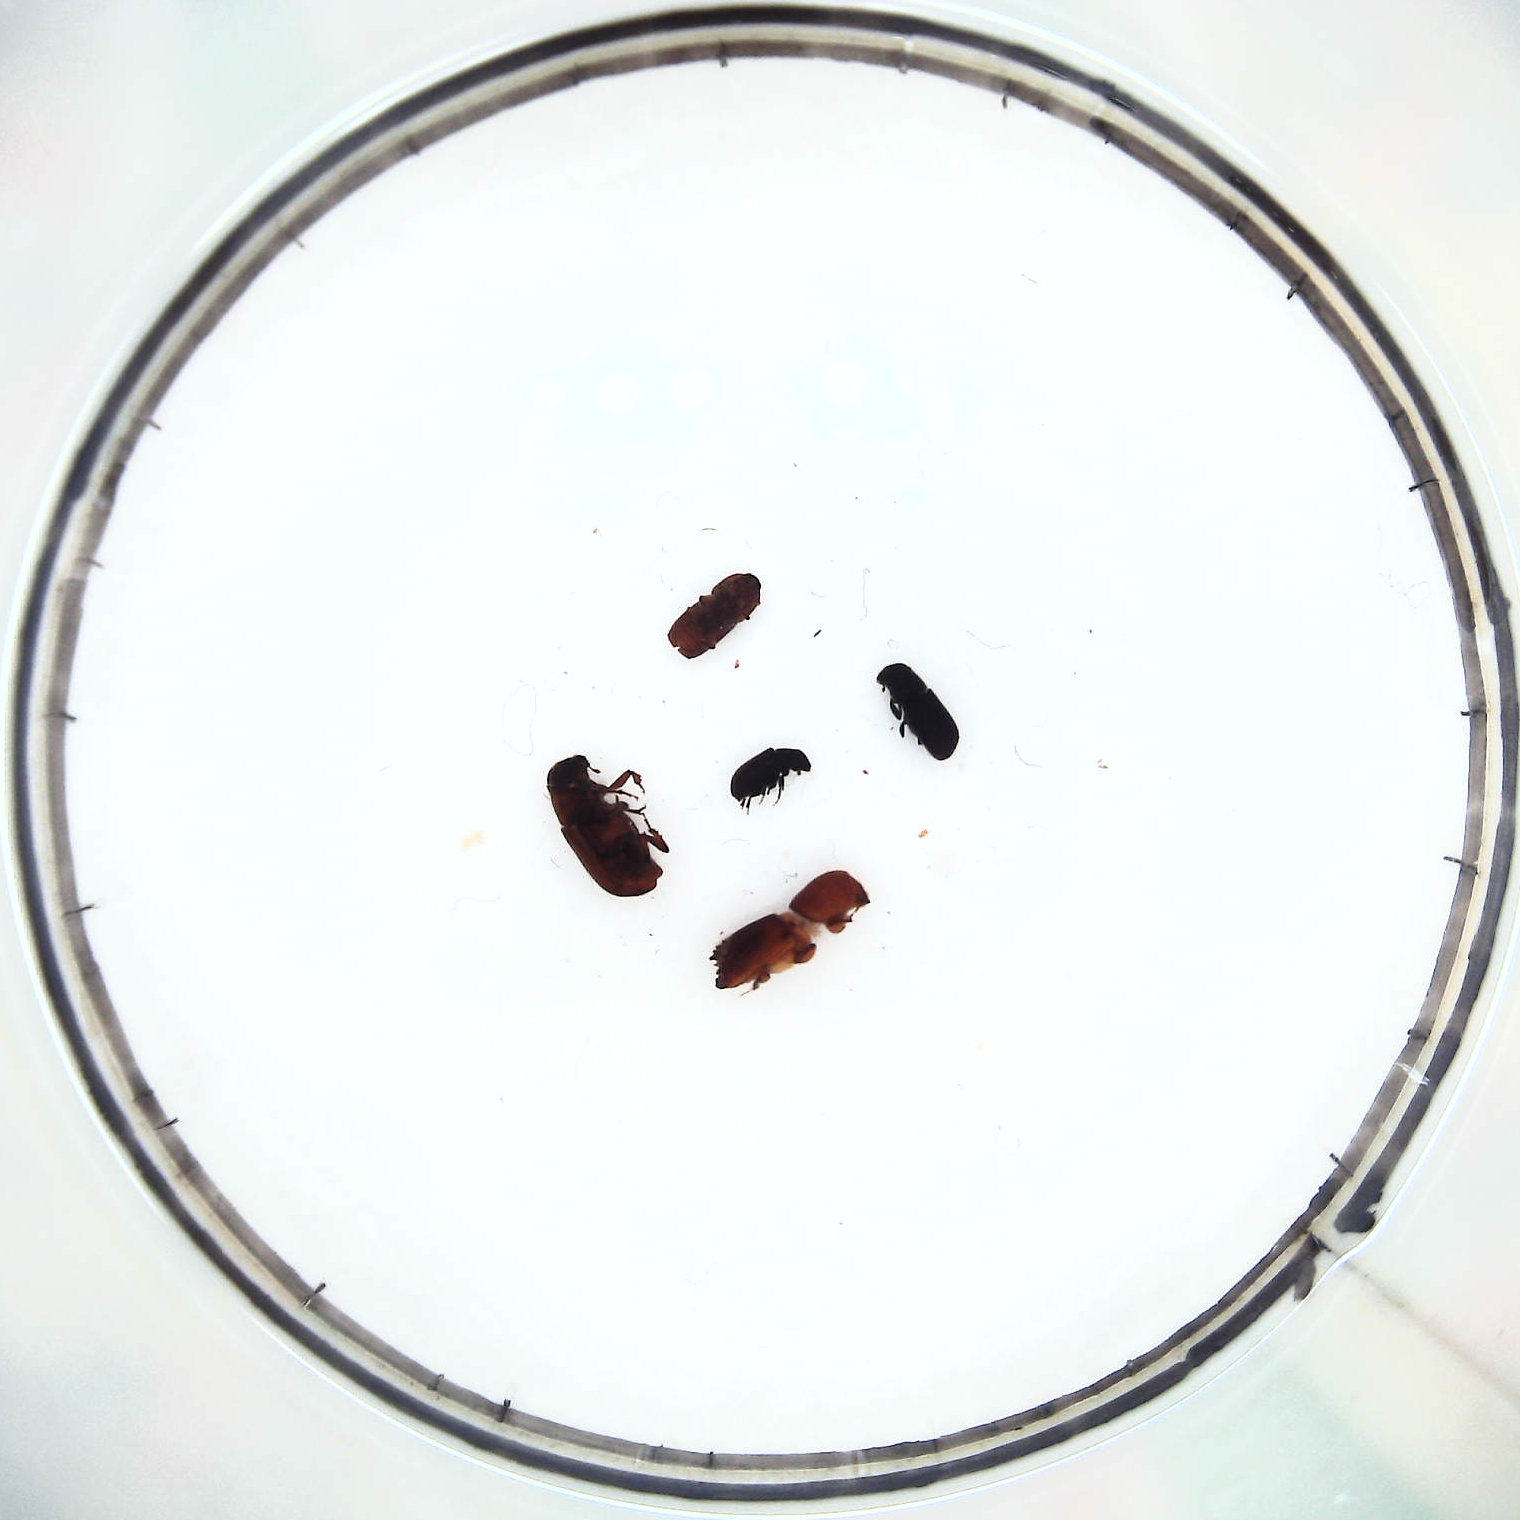Boerner: (708, 869, 869, 999)
Leconte: (546, 752, 668, 901)
Linnaeus: (670, 573, 760, 660)
armandi: (874, 658, 962, 764)
coleoptera: (727, 746, 812, 810)
